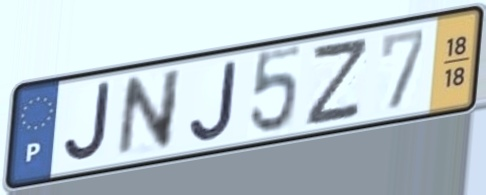5: (247, 41, 305, 139)
7: (378, 25, 428, 114)
J: (186, 57, 241, 145), (60, 79, 112, 166)
N: (113, 65, 185, 163)
Z: (301, 34, 372, 130)
